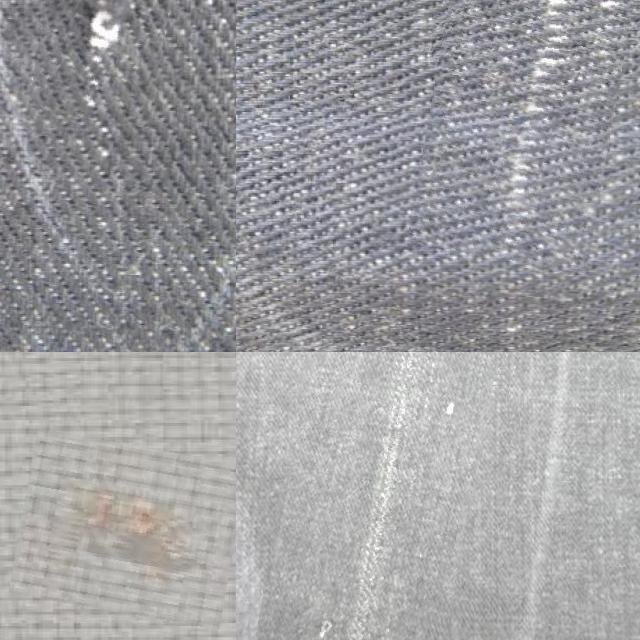other: (13, 436, 236, 620)
stains: (267, 352, 510, 640), (419, 0, 625, 267), (33, 0, 168, 123)
